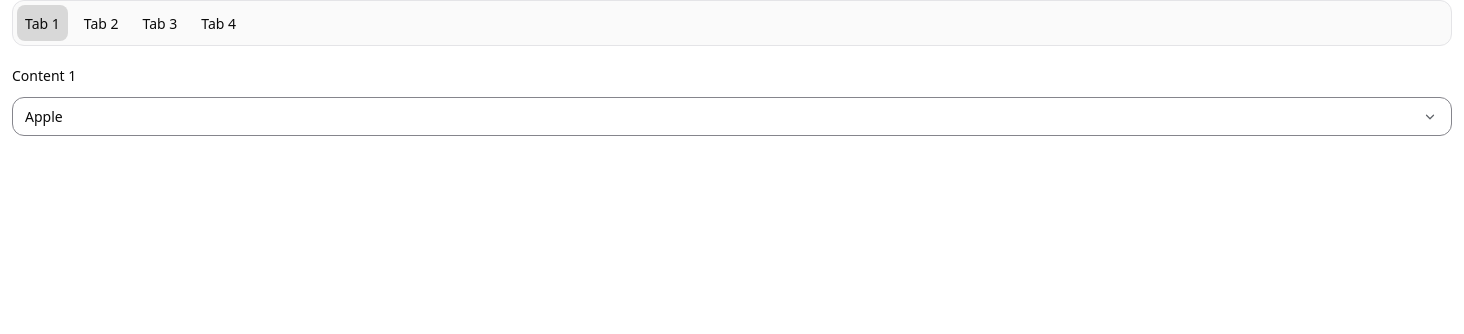
KeyboardNavigation Integration Tests › Combined Component Keyboard Navigation › maintains keyboard navigation after component interactions
# Interact with tabs using keyboard
Click the tab "Tab 1".
click(42, 23)  # box [17,5,68,41]
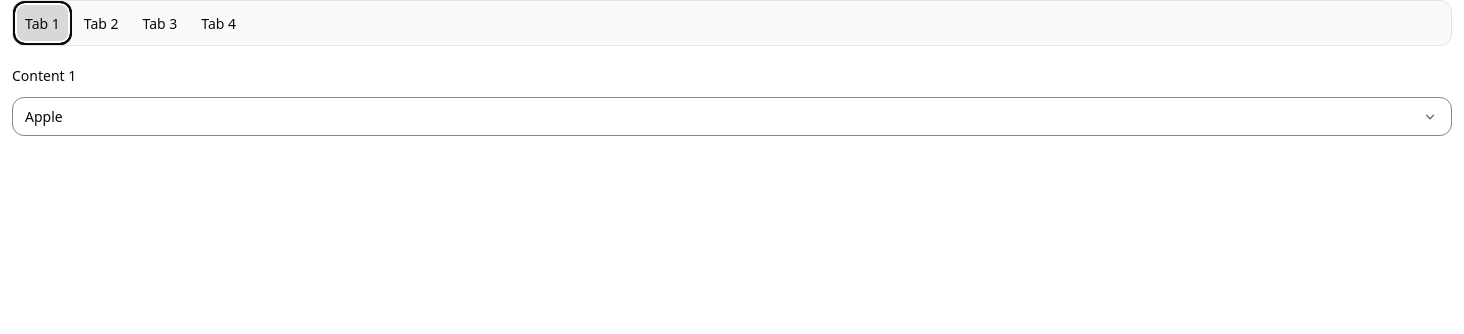
Press Arrowright
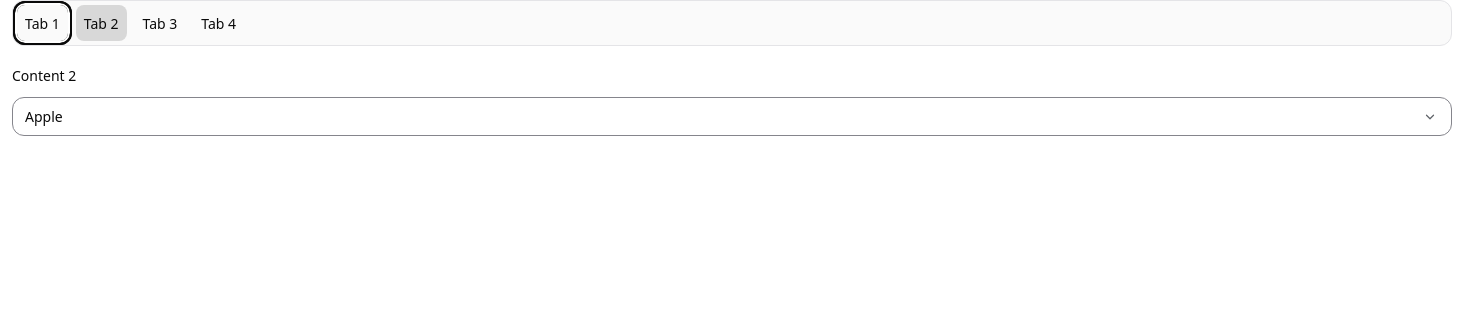
Check: the tab "Tab 2" has attribute data-active="true", box [76,5,127,41]
# Tab to tab panel, then to select
Press Tab
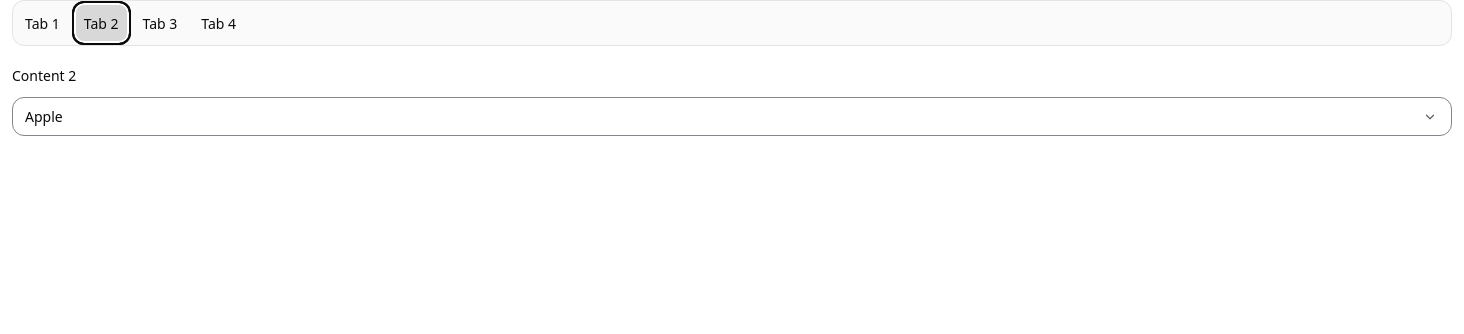
Press Tab
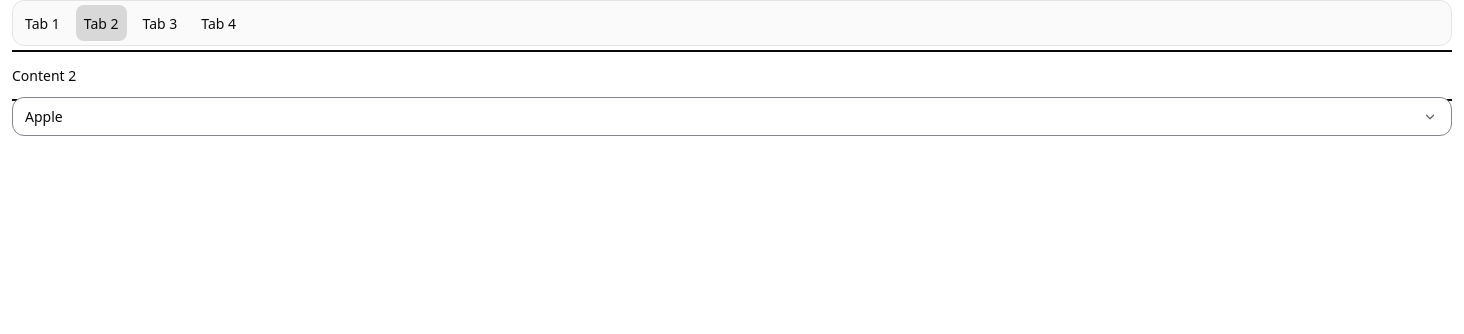
# Open select by clicking
Click the button "Apple".
click(44, 116)  # box [12,97,1452,136]
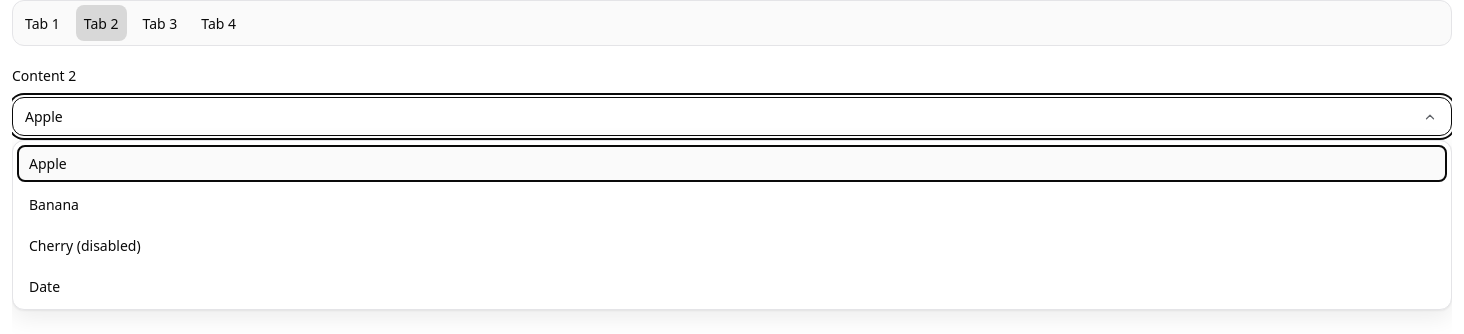
Check: the list is shown, box [12,140,1452,310]
# Select with Enter
Press Enter
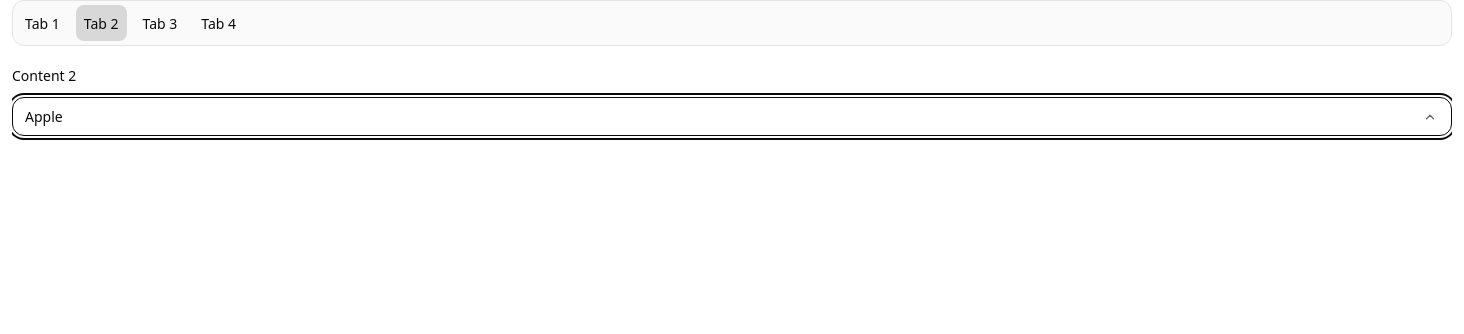
Check: the list is gone
